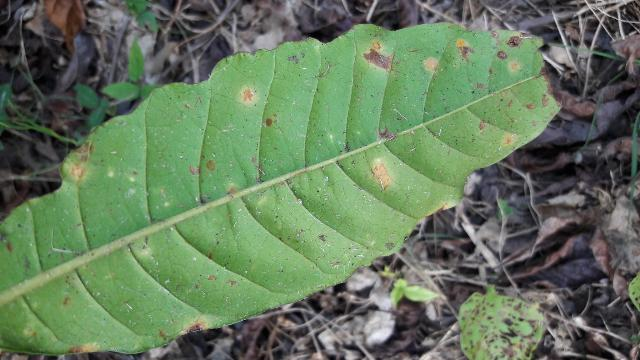rust_level_1: (1, 24, 559, 351)
